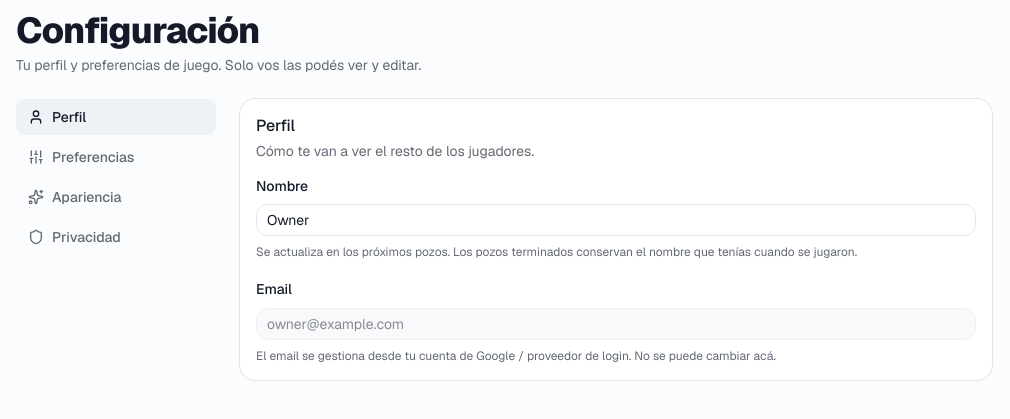
Test: <SettingsPage /> › switches between sections via the side nav
Expected: the field labelled "Nombre" is shown, 256,204 -> 976,236
# Click Preferencias.
Click the button "Preferencias": (116, 157) 16,139 -> 216,175
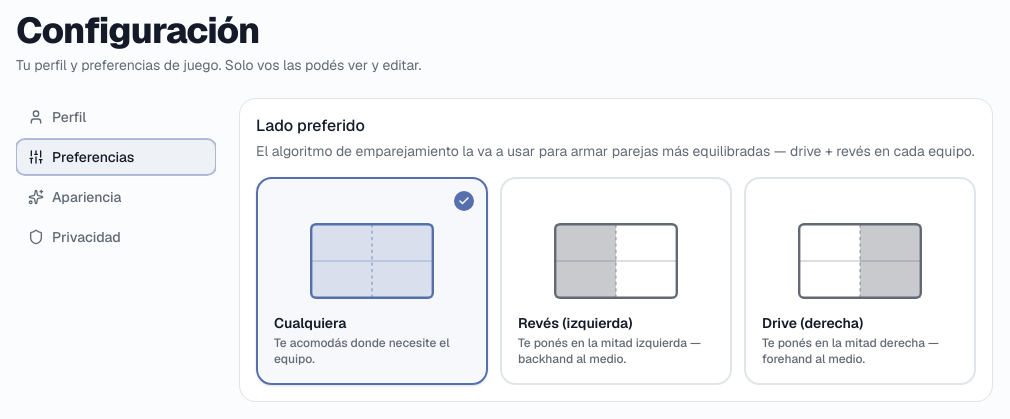
Expected: the text "Lado preferido" is shown, 256,115 -> 365,136
Expected: the text "Cualquiera" is shown, 274,314 -> 346,332
Expected: the text "Drive (derecha)" is shown, 762,314 -> 863,332
Click the button "Privacidad": (116, 237) 16,219 -> 216,255
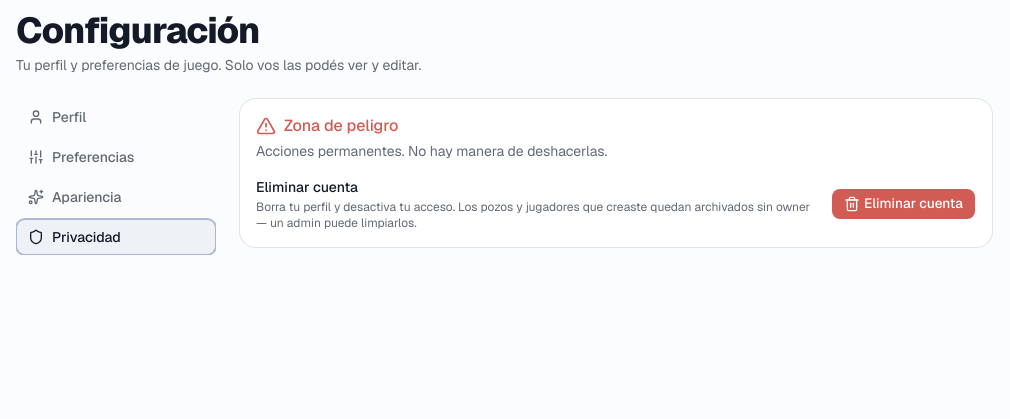
Expected: the text "Zona de peligro" is shown, 256,115 -> 398,136
